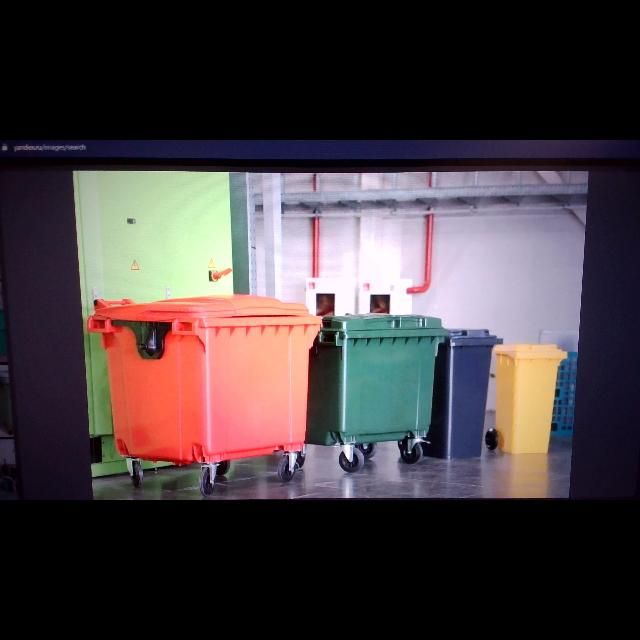Trash_Can_Closed: (104, 292, 323, 461), (306, 312, 443, 444), (427, 327, 505, 460), (494, 344, 567, 455)
